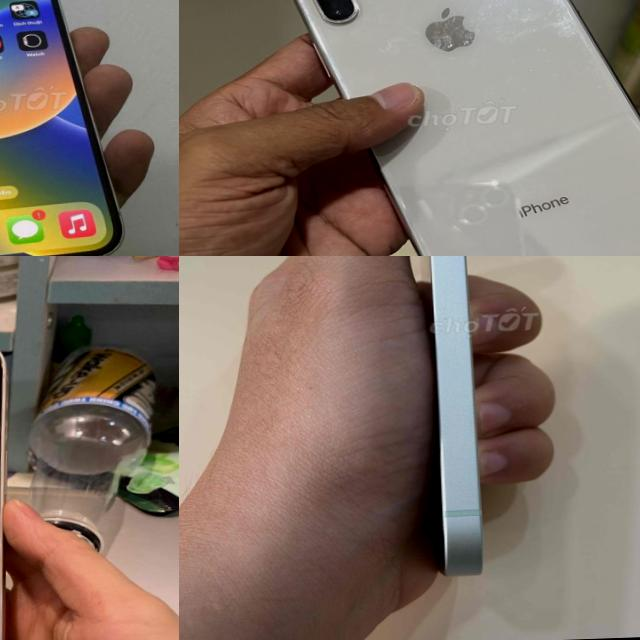scratch: (398, 0, 588, 54)
